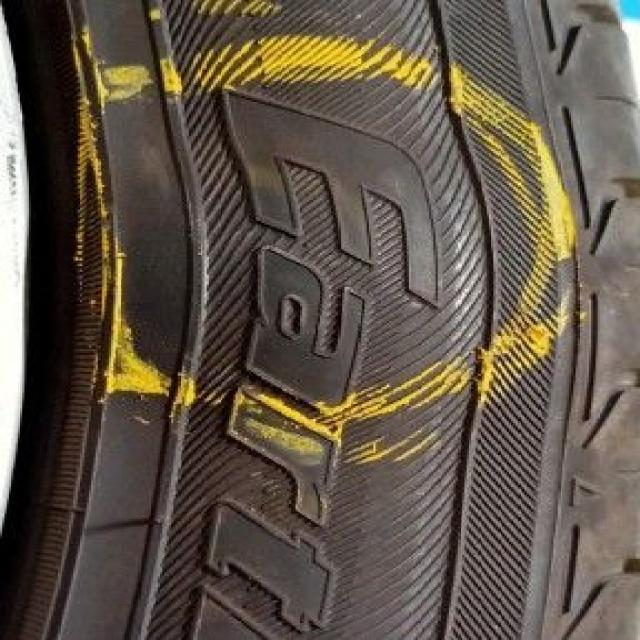Bulge: (109, 146, 404, 410)
